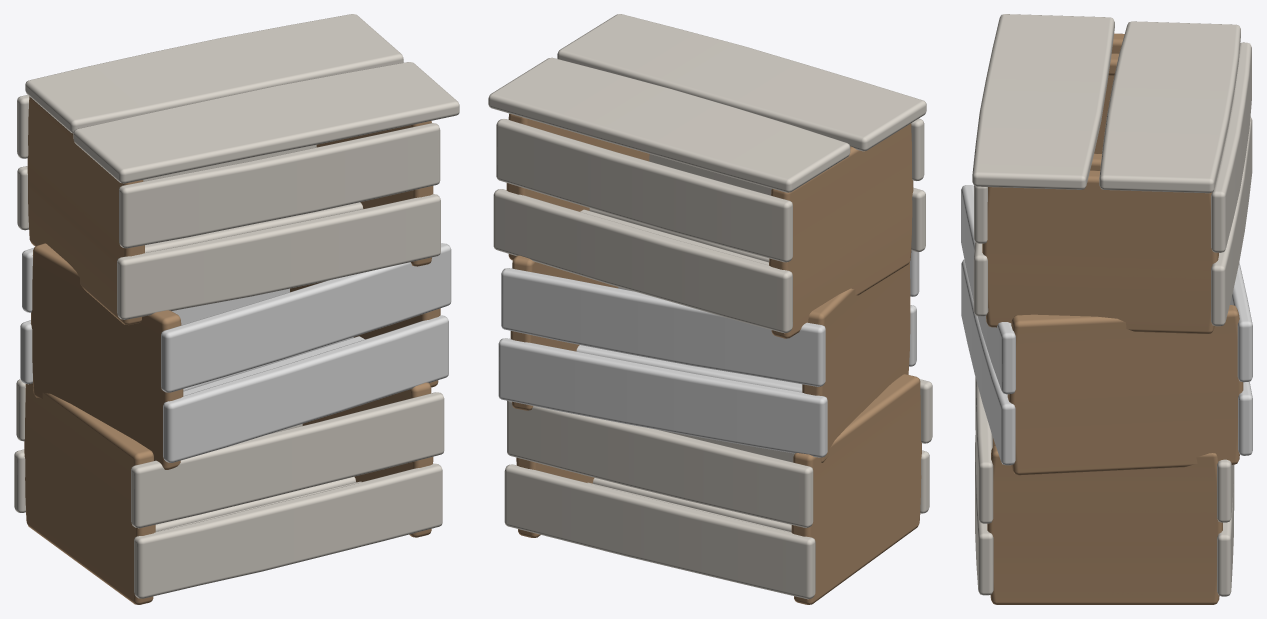
File: pg_crate_4.glb
3 views of the same model, side by side, from view 1: azimuth 30°, elevation 25°; view 2: azimuth 150°, elevation 25°; view 3: azimuth 270°, elevation 25° (orthographic). The views are drawn at different scales.
Parts seen in each view (by area): view 1: pg_crate_4_pg_slat, pg_crate_4_timber; view 2: pg_crate_4_pg_slat, pg_crate_4_timber; view 3: pg_crate_4_timber, pg_crate_4_pg_slat.
Part boxes in pixels (box(x1,y1,x2,y2)): pg_crate_4_pg_slat: box(14, 14, 459, 598); pg_crate_4_timber: box(24, 96, 440, 604); pg_crate_4_pg_slat: box(488, 14, 932, 599); pg_crate_4_timber: box(506, 113, 921, 604); pg_crate_4_timber: box(982, 33, 1243, 604); pg_crate_4_pg_slat: box(961, 14, 1252, 596).
Size of the model in its own units: 0.8692 by 1.07 by 0.6372.
